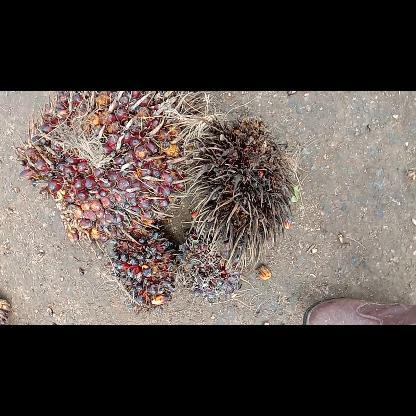Janjang kosong: (182, 108, 296, 270)
TBS abnormal: (108, 220, 178, 314), (175, 226, 243, 304)
TBS masak: (13, 92, 206, 246)
